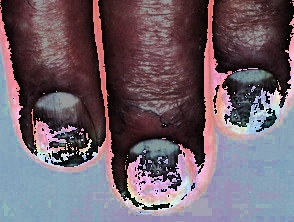Nail_psoriasis: (79, 87, 225, 222), (22, 69, 104, 172), (211, 61, 293, 136)
